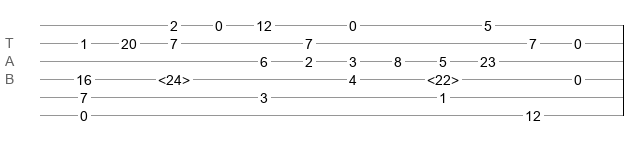0: (80, 108, 88, 118), (215, 18, 223, 28), (349, 18, 357, 28), (574, 36, 582, 46), (574, 72, 582, 82)
1: (80, 36, 88, 46), (439, 90, 447, 100)
12: (256, 18, 272, 28), (525, 108, 541, 118)
16: (76, 72, 92, 82)
2: (170, 18, 178, 28), (305, 54, 313, 64)
20: (121, 36, 137, 46)
23: (480, 54, 496, 64)
3: (260, 90, 268, 100), (349, 54, 357, 64)
4: (349, 72, 357, 82)
5: (439, 54, 447, 64), (484, 18, 492, 28)
6: (260, 54, 268, 64)
7: (80, 90, 88, 100), (170, 36, 178, 46), (305, 36, 313, 46), (529, 36, 537, 46)
8: (394, 54, 402, 64)
harmonic: (158, 72, 190, 82), (427, 72, 459, 82)
